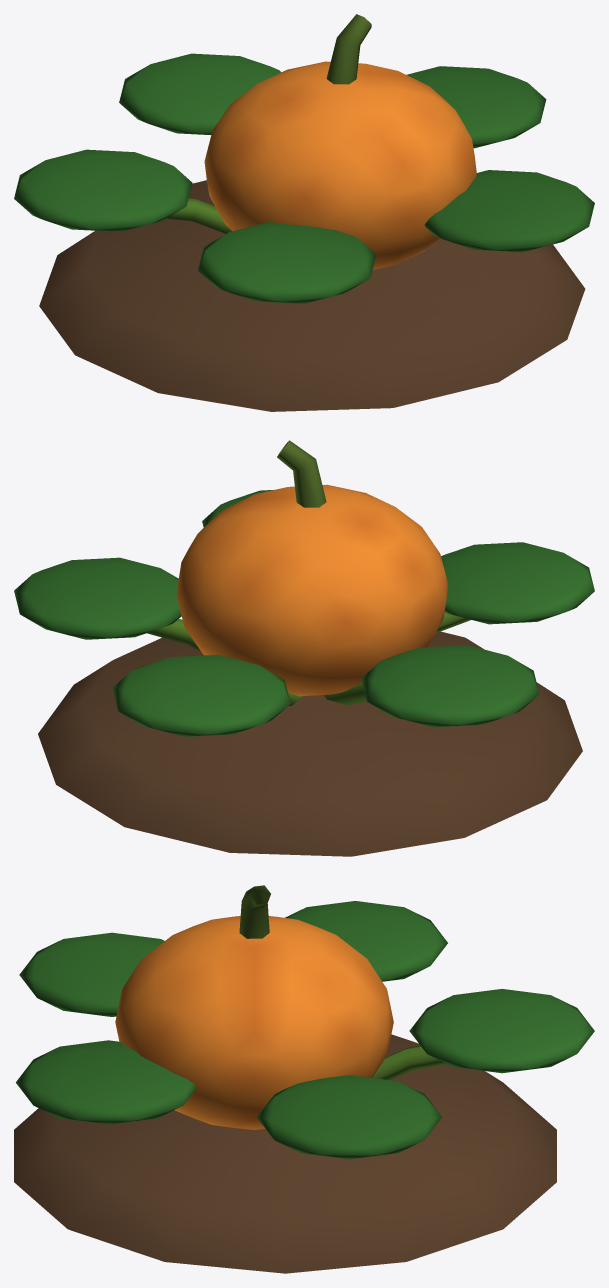
The model's file is veg_pumpkin.glb.
The picture shows the model from 3 angles, top to bottom: view 1: azimuth 30°, elevation 25°; view 2: azimuth 150°, elevation 25°; view 3: azimuth 270°, elevation 25°; orthographic projection.
Visible parts, largest first — view 1: veg_pumpkin_main, veg_pumpkin_gloss; view 2: veg_pumpkin_main, veg_pumpkin_gloss; view 3: veg_pumpkin_main, veg_pumpkin_gloss.
Boxes of the visible parts, left/top/right/bottom form: veg_pumpkin_main: left=14, top=14, right=594, bottom=411; veg_pumpkin_gloss: left=204, top=61, right=476, bottom=269; veg_pumpkin_main: left=14, top=440, right=594, bottom=856; veg_pumpkin_gloss: left=176, top=484, right=448, bottom=696; veg_pumpkin_main: left=14, top=885, right=594, bottom=1273; veg_pumpkin_gloss: left=115, top=916, right=393, bottom=1129.
Size of the model in its own units: 0.3804 by 0.205 by 0.3755.
